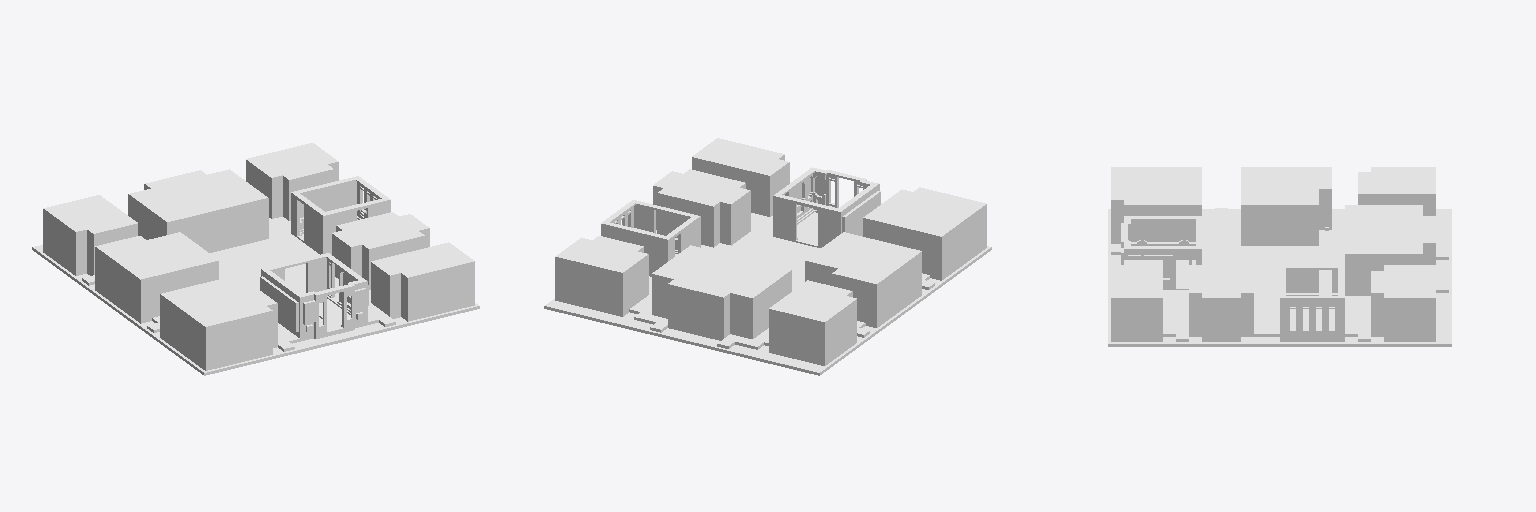
File: mansion.obj
3 views of the same model, side by side, from view 1: azimuth 30°, elevation 25°; view 2: azimuth 150°, elevation 25°; view 3: azimuth 270°, elevation 25° (orthographic).
Parts seen in each view (by area): view 1: Unity__-225_-61_83_to_-128_50_188; view 2: Unity__-225_-61_83_to_-128_50_188; view 3: Unity__-225_-61_83_to_-128_50_188.
Part boxes in pixels (bbox=[...]): Unity__-225_-61_83_to_-128_50_188: bbox=[32, 143, 479, 375]; Unity__-225_-61_83_to_-128_50_188: bbox=[544, 138, 991, 375]; Unity__-225_-61_83_to_-128_50_188: bbox=[1108, 167, 1451, 346].
Size of the model in its own units: 98 by 16 by 106.